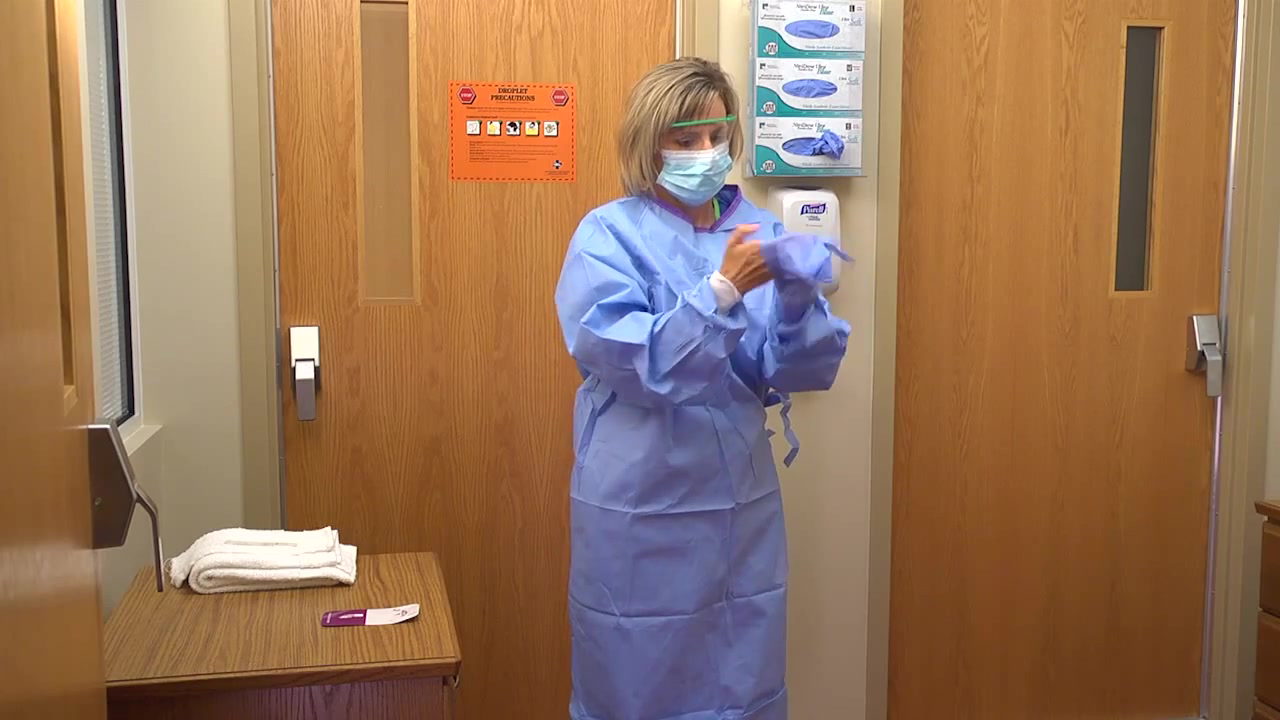Coverall: (567, 187, 843, 720)
Face_Shield: (654, 105, 749, 218)
with_mask: (651, 144, 733, 207)
